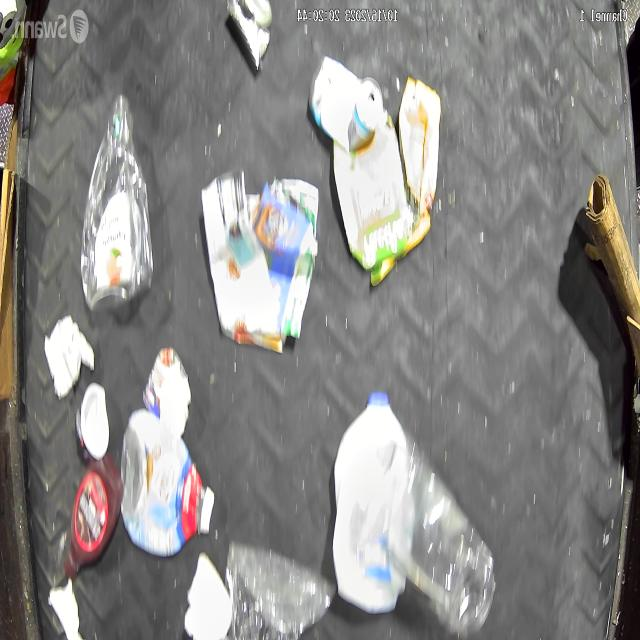can: (306, 56, 384, 152), (227, 0, 272, 71)
milk_jug: (332, 391, 408, 614)
non_white_jug: (79, 92, 155, 312)
